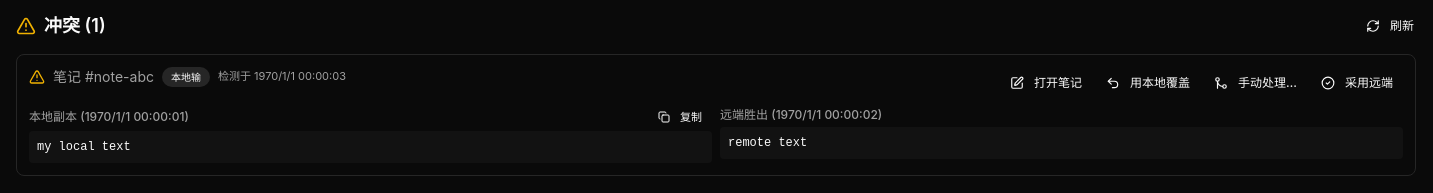
Test case: ConflictsPage resolve flow (W7) › 用本地覆盖 sends the note updated_at as CAS baseline, then drops the row
This screenshot has width=1433, height=193.
Step 1. Click the button "用本地覆盖" → (1148, 83), box [1096,67,1200,99]
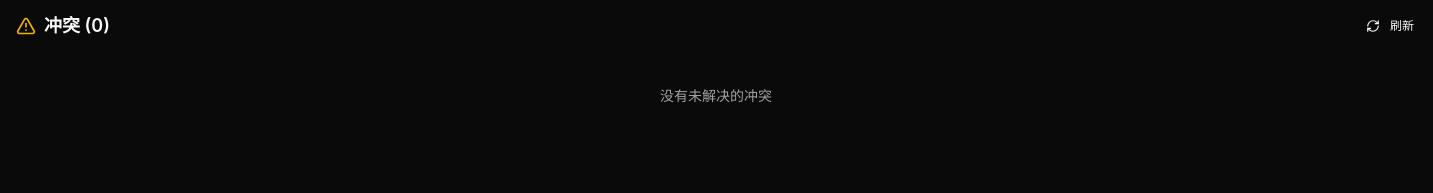
Expected: the text "没有未解决的冲突" is shown, [660,87,772,104]
